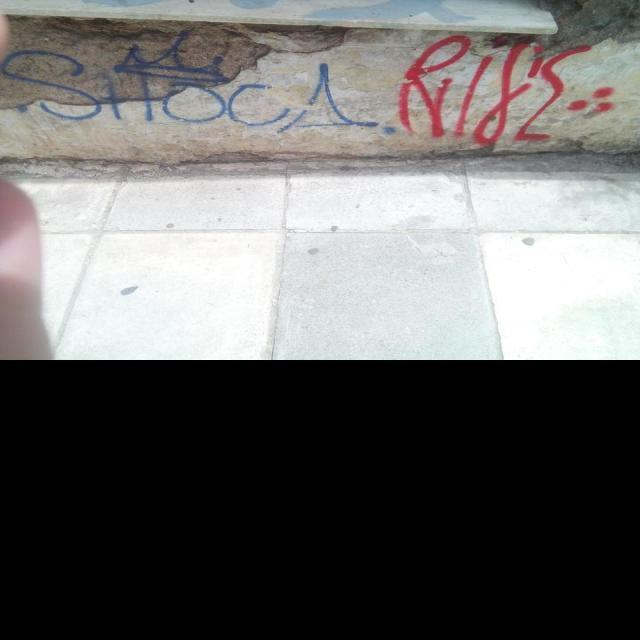nonspitting: (4, 31, 396, 137), (402, 36, 616, 146)
